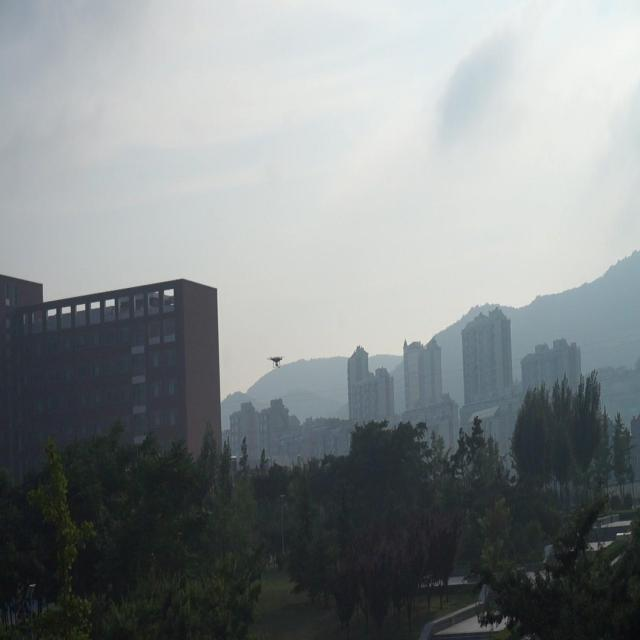drone: (266, 353, 287, 368)
